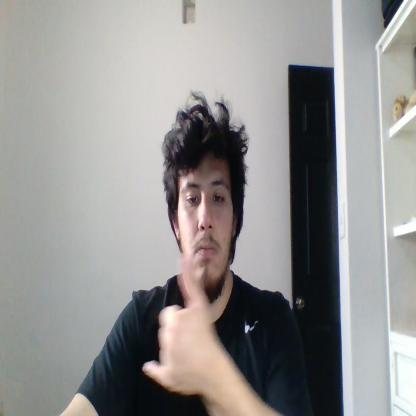Y: (142, 251, 213, 394)
